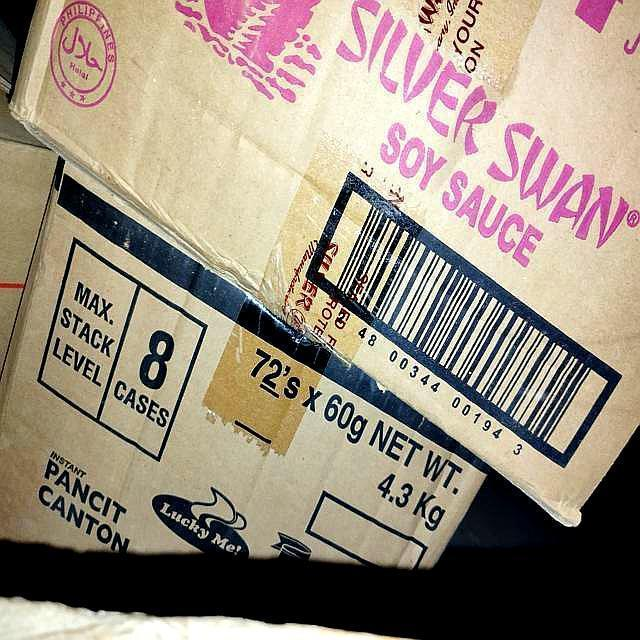Biodegradable: (1, 1, 640, 567)
